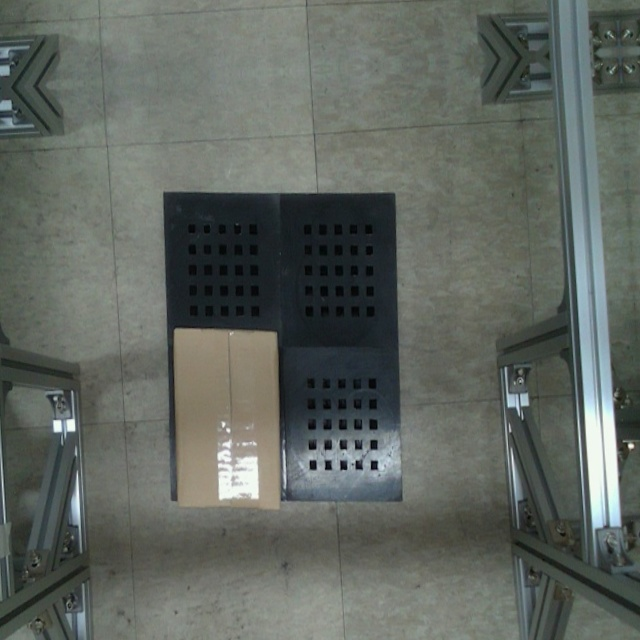box: (167, 322, 287, 515)
pallet: (145, 175, 418, 523)
